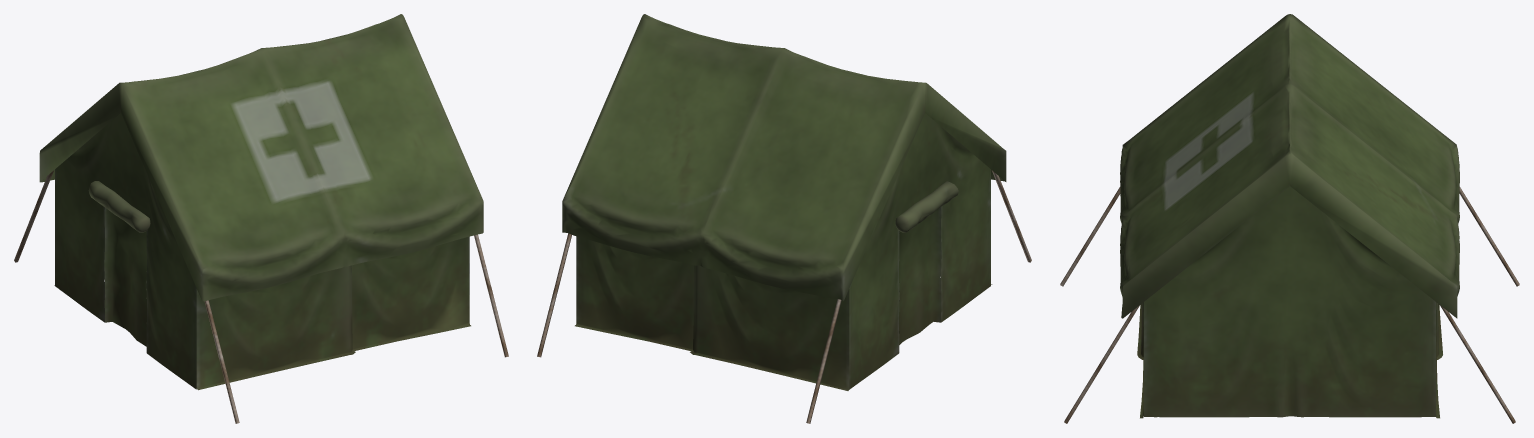
The model's file is camp_tent_medical.glb.
3 views of the same model, side by side, from view 1: azimuth 30°, elevation 25°; view 2: azimuth 150°, elevation 25°; view 3: azimuth 270°, elevation 25° (orthographic). The views are drawn at different scales.
Parts seen in each view (by area): view 1: tent; view 2: tent; view 3: tent.
Boxes of the visible parts, bbox=[...] form: tent: bbox=[14, 14, 508, 423]; tent: bbox=[537, 14, 1031, 423]; tent: bbox=[1060, 14, 1519, 423].
Size of the model in its own units: 1.13 by 0.9737 by 1.5.
Materials: 1 (1 with a texture image).
